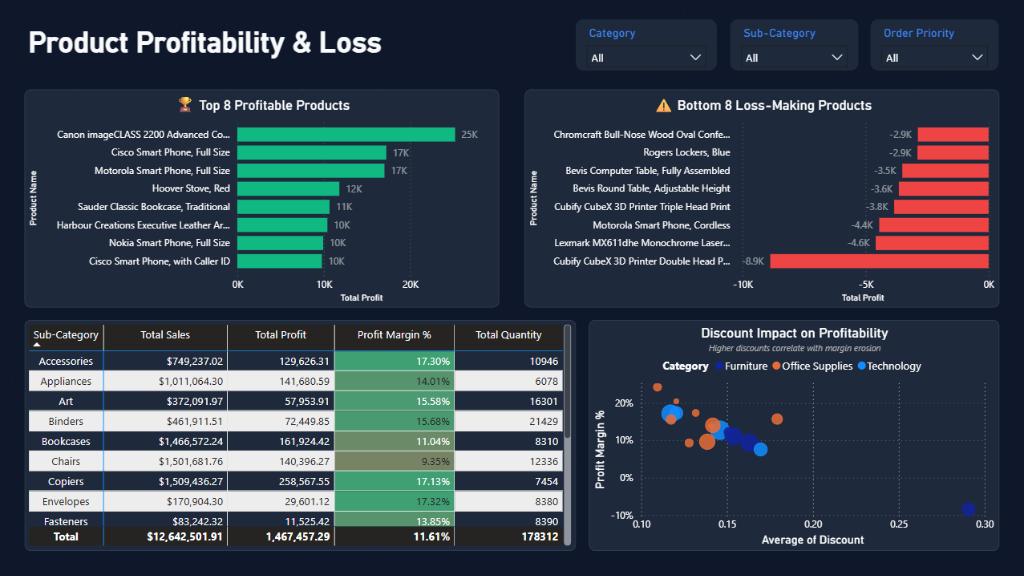

Layout of this report page (visuals, bound fields, positions):
{"tool":"powerbi","page":{"name":"Page 2","canvas":[1280,720],"ordinal":1},"visuals":[{"type":"textbox","title":"Product Profitability & Loss Prevention","box":[32,32,480,48],"z":0},{"type":"clusteredBarChart","title":"🏆 Top 8 Profitable Products","fields":{"Category":["Sheet1.Product Name"],"Y":["Sheet1.Total Profit"]},"box":[32,112,592,272],"z":1000},{"type":"group","id":"g1","title":"Group 1","box":[720,24.9,528,64],"z":2000},{"type":"scatterChart","title":"Discount Impact on Profitability","fields":{"Y":["Sheet1.Profit Margin %"],"Category":["Sheet1.Sub-Category"],"X":["Avg(Sheet1.Discount)"],"Series":["Sheet1.Category"],"Size":["Sheet1.Total Sales"]},"box":[736,400,512,288],"z":3000},{"type":"clusteredBarChart","title":"⚠️ Bottom 8 Loss-Making Products","fields":{"Category":["Sheet1.Product Name"],"Y":["Sheet1.Total Profit"]},"box":[656,112,592,272],"z":4000},{"type":"pivotTable","fields":{"Rows":["Sheet1.Sub-Category"],"Values":["Sheet1.Total Sales","Sheet1.Total Profit","Sheet1.Profit Margin %","Sheet1.Total Quantity"]},"box":[32,400,688,288],"z":5000},{"type":"slicer","fields":{"Values":["Sheet1.Category"]},"box":[720,24.9,176,64],"z":9000,"group":"g1"},{"type":"slicer","fields":{"Values":["Sheet1.Order Priority"]},"box":[1088,24.9,160,64],"z":10000,"group":"g1"},{"type":"slicer","fields":{"Values":["Sheet1.Sub-Category"]},"box":[912,24.9,160,64],"z":11000,"group":"g1"}]}

Visuals, with their boxes in screenshot pixels (x1, y1, x2, y2), scaled from the page's 1280x720 canvas onto the 1024x576 screenshot:
"Product Profitability & Loss Prevention" textbox: region(26, 26, 410, 64)
"🏆 Top 8 Profitable Products" clusteredBarChart: region(26, 90, 499, 307)
"Group 1" group: region(576, 20, 998, 71)
"Discount Impact on Profitability" scatterChart: region(589, 320, 998, 550)
"⚠️ Bottom 8 Loss-Making Products" clusteredBarChart: region(525, 90, 998, 307)
pivotTable - Sheet1.Sub-Category x Sheet1.Total Sales: region(26, 320, 576, 550)
slicer - Sheet1.Category: region(576, 20, 717, 71)
slicer - Sheet1.Order Priority: region(870, 20, 998, 71)
slicer - Sheet1.Sub-Category: region(730, 20, 858, 71)
